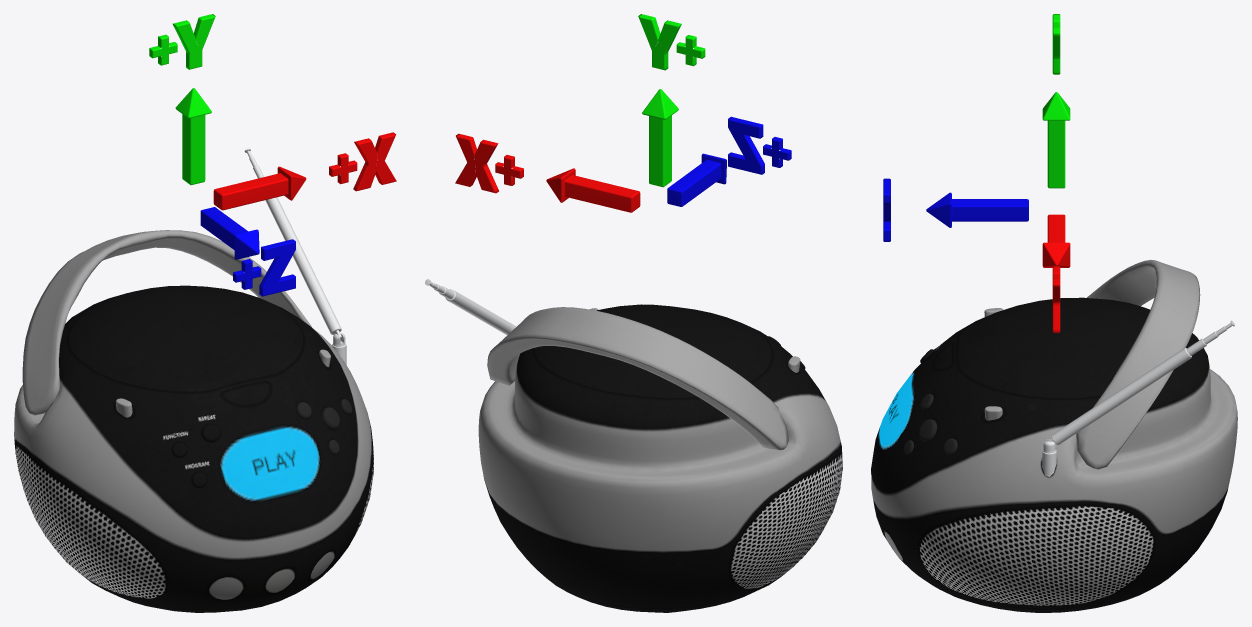
Rendered from BoomBoxWithAxes.gltf.
3 renders of one model, left to right at view 1: azimuth 30°, elevation 25°; view 2: azimuth 150°, elevation 25°; view 3: azimuth 270°, elevation 25°, orthographic.
Parts seen in each view (by area): view 1: BoomBox, CoordinateSystem, X_axis, Z_axis, Y_axis; view 2: BoomBox, CoordinateSystem, X_axis, Z_axis, Y_axis; view 3: BoomBox, CoordinateSystem, X_axis, Y_axis, Z_axis.
Part boxes in pixels (<box>): BoomBox: <box>14,148,373,612</box>; CoordinateSystem: <box>175,88,306,259</box>; X_axis: <box>329,132,396,191</box>; Z_axis: <box>233,239,295,296</box>; Y_axis: <box>149,14,215,69</box>; BoomBox: <box>425,279,842,612</box>; CoordinateSystem: <box>546,89,726,212</box>; X_axis: <box>455,133,523,193</box>; Z_axis: <box>728,116,791,174</box>; Y_axis: <box>638,14,705,70</box>; BoomBox: <box>871,260,1237,612</box>; CoordinateSystem: <box>926,92,1070,267</box>; X_axis: <box>1052,265,1060,332</box>; Y_axis: <box>1052,14,1060,74</box>; Z_axis: <box>883,178,890,241</box>.
Bounding box in the file's own units: 0.0228 × 0.0334 × 0.0202.
2 materials, 2 textured.
